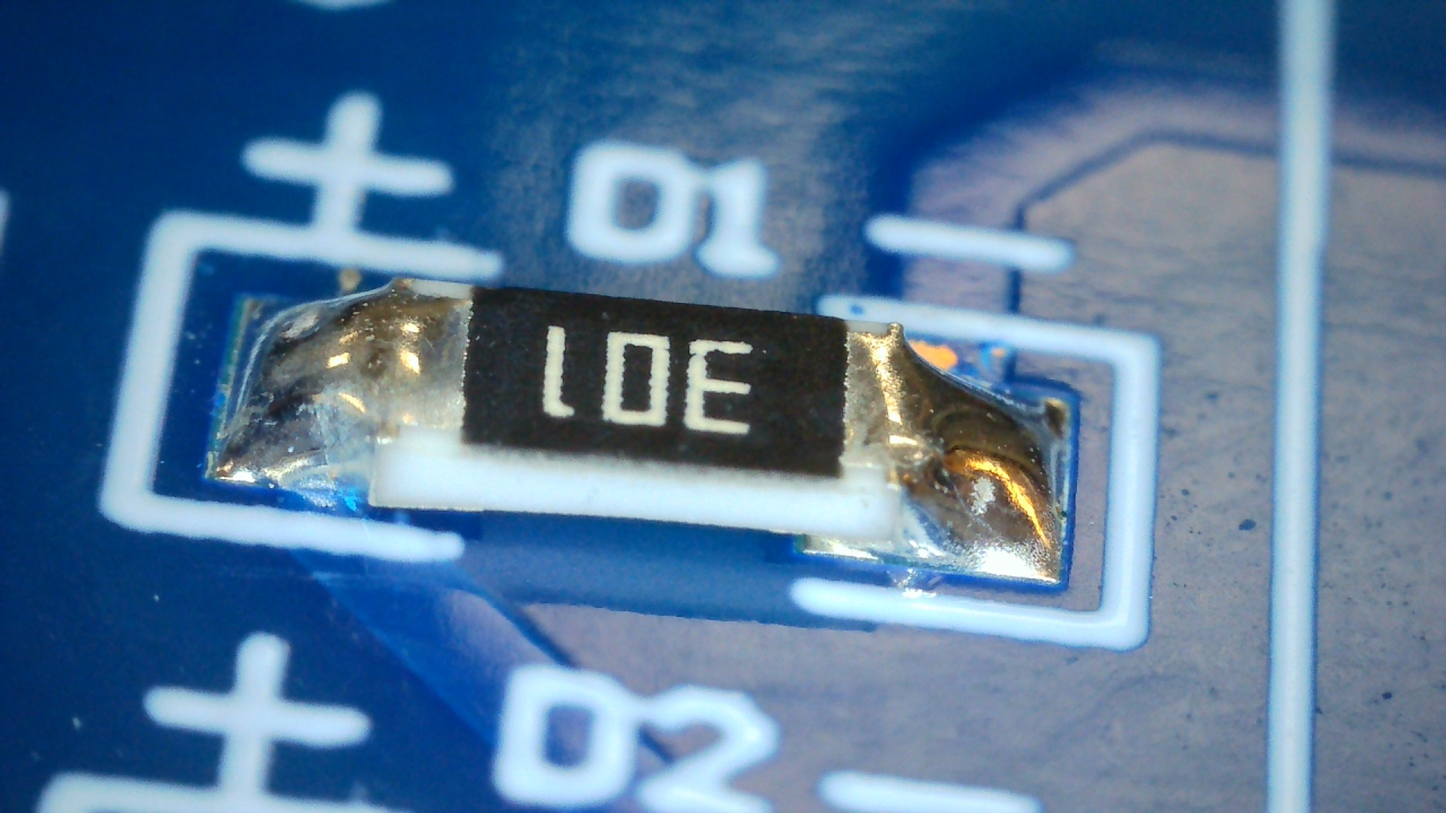NG: (839, 319, 1059, 582), (216, 277, 468, 493)
